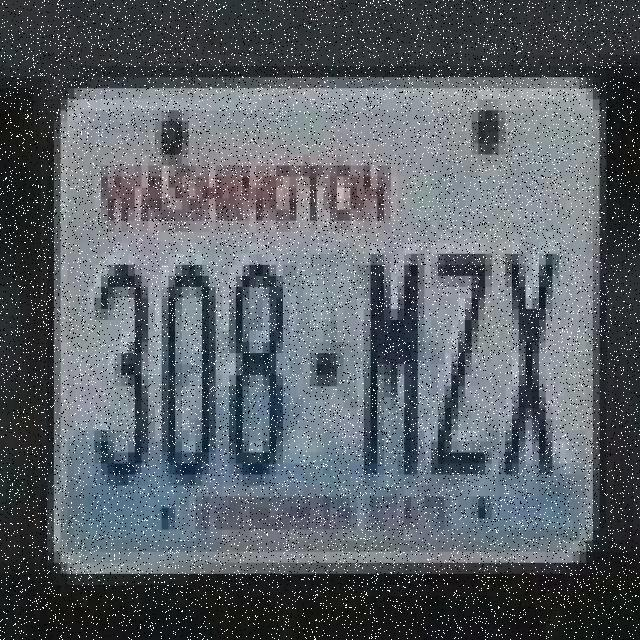licenseplate: (44, 44, 614, 589)
